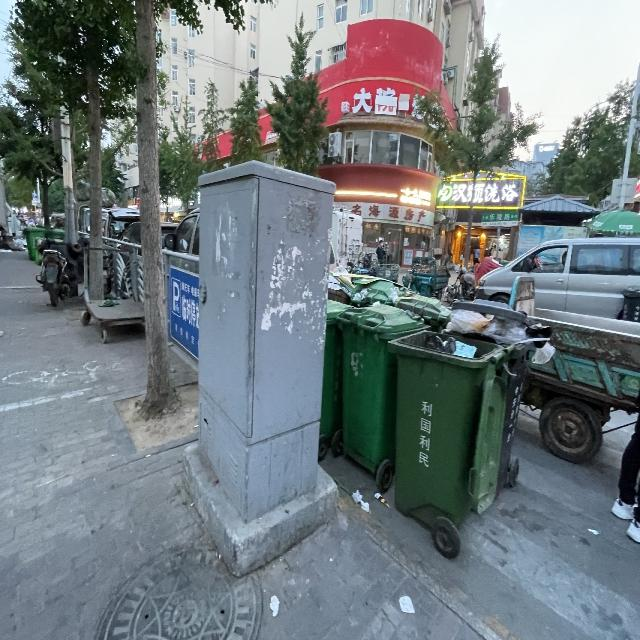garbage_bin: (337, 304, 431, 472), (320, 296, 356, 440), (22, 225, 44, 260)
overflow: (386, 330, 516, 531), (438, 296, 555, 502)
